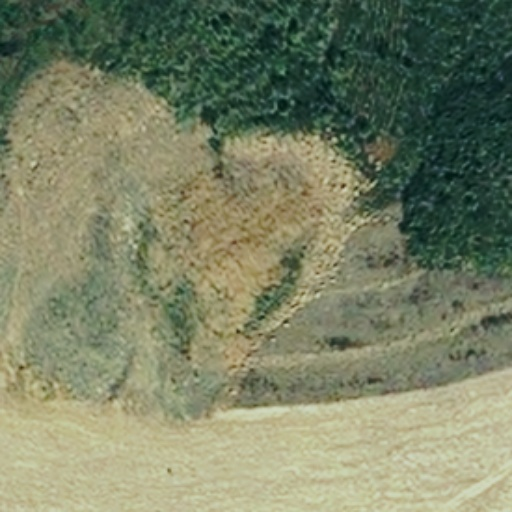landslide: (3, 72, 358, 419)
